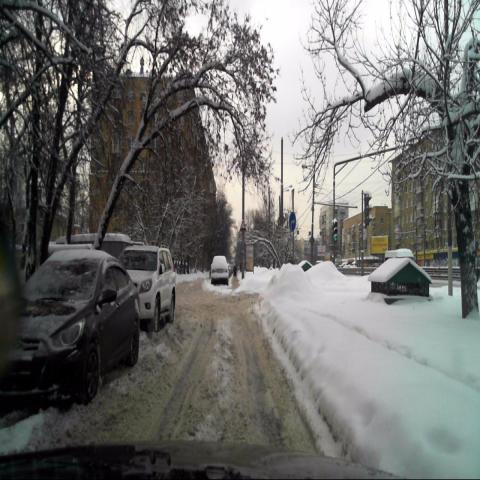1_16: (240, 220, 246, 232)
4_1_2: (289, 212, 296, 231)
